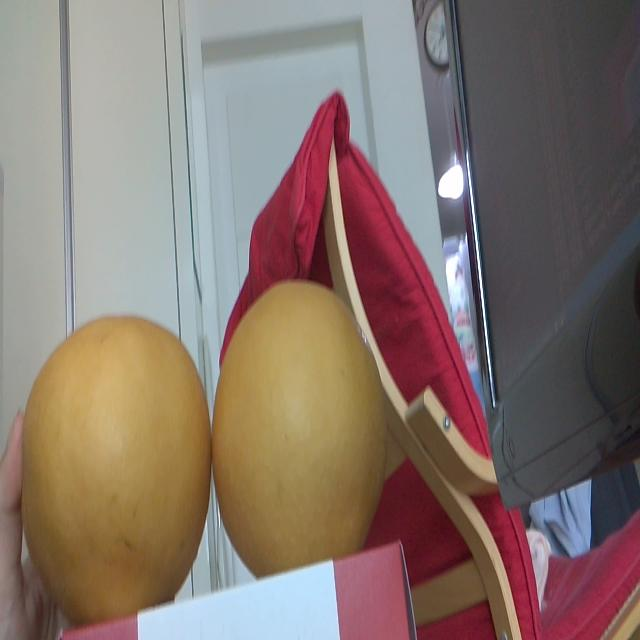pear: (22, 315, 211, 594), (212, 281, 386, 546)
